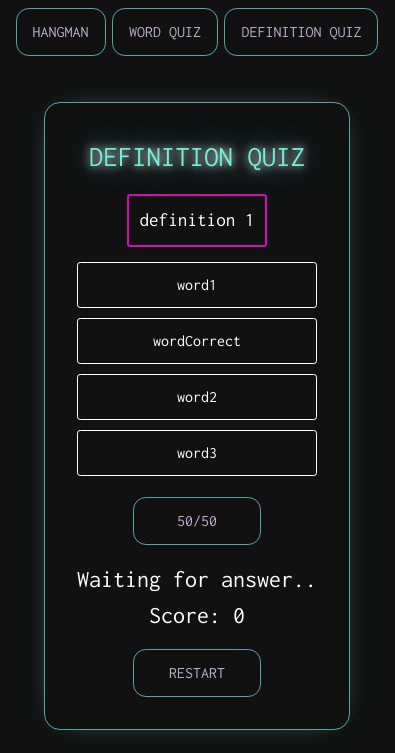
QuizDefinition › should have div with test-id correct and not have div with test-id wrong after click correct answer
The width and height of the screenshot is (395, 753).
Click the text "wordCorrect".
click(197, 340)  # box [153,332,241,349]
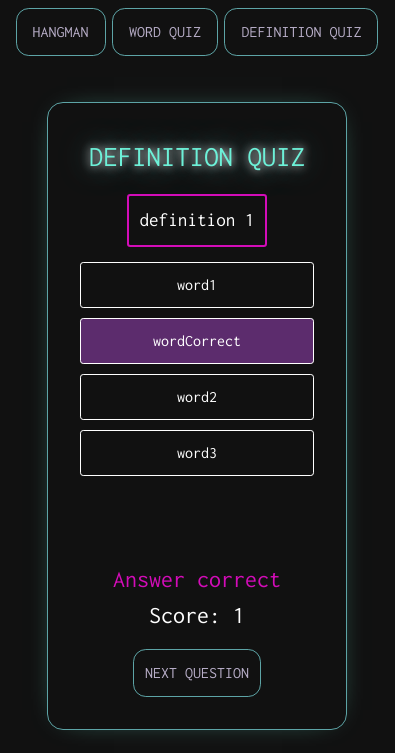
Expected: the text "Answer correct" is shown, [113,561,281,597]
